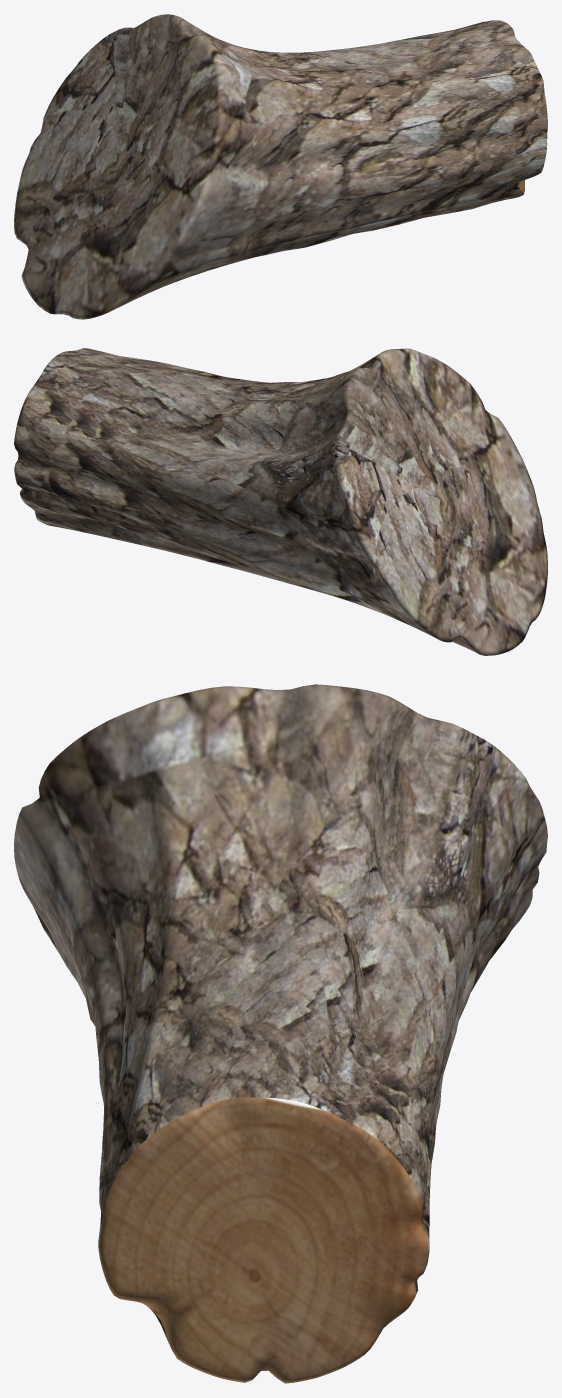
File: tree3.fbx
3 renders of one model, top to bottom at view 1: azimuth 30°, elevation 25°; view 2: azimuth 150°, elevation 25°; view 3: azimuth 270°, elevation 25°, orthographic. The views are drawn at different scales.
Parts seen in each view (by area): view 1: tree_stomp; view 2: tree_stomp; view 3: tree_stomp.
Part boxes in pixels (x1,y1,x2,y2): tree_stomp: (14,14,547,319); tree_stomp: (14,348,547,655); tree_stomp: (14,684,547,1383).
Size of the model in its own units: 1097 by 562 by 599.
Materials: 1 (1 with a texture image).
